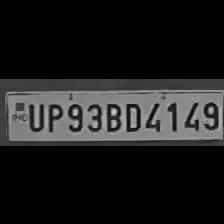1: (162, 98, 180, 132)
3: (84, 100, 102, 132)
4: (142, 97, 162, 131), (180, 97, 200, 130)
9: (199, 97, 221, 130), (64, 100, 84, 132)
B: (102, 100, 122, 132)
D: (122, 98, 142, 132)
P: (43, 100, 62, 132)
U: (24, 100, 43, 132)
